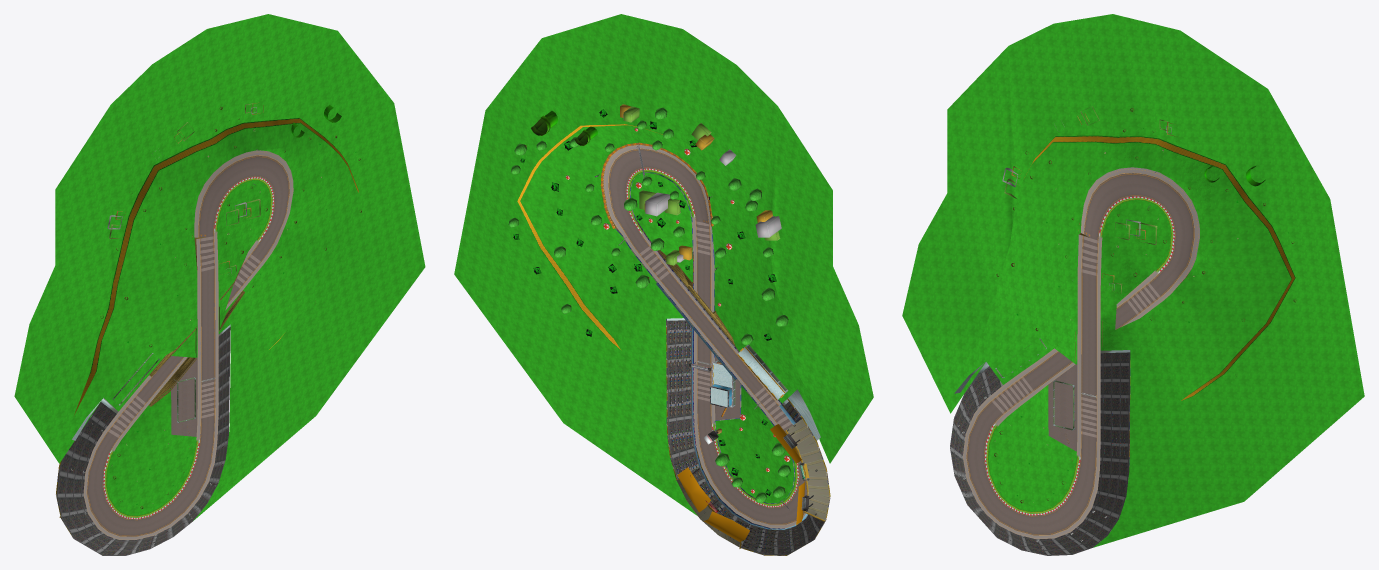
The picture shows the model from 3 angles, left to right: view 1: azimuth 30°, elevation 25°; view 2: azimuth 150°, elevation 25°; view 3: azimuth 330°, elevation 25°; orthographic projection. The views are drawn at different scales.
Parts seen in each view (by area): view 1: s_grass.001, s_road.001, s_lambert15.001, s_roadEdge.001, s_wallGroup.001, s_roadBW.001, s_grassRoad.001, wallBrick.001, lambert13.001; view 2: s_grass.001, s_road.001, s_lambert15.001, lambert13.001, s_roadEdge.001, leafs_cn_af.001, mat9_cn.001, s_roadBW.001, shine_A.001, s_wallGroup.001, wall.021, bush_af_cn.001 (+8 smaller); view 3: s_grass.001, s_road.001, s_lambert15.001, s_roadEdge.001, s_wallGroup.001, s_roadBW.001, s_grassRoad.001, lambert13.001.
Boxes of the visible parts, <box> form: s_grass.001: <box>14,14,425,520</box>; s_road.001: <box>87,155,289,536</box>; s_lambert15.001: <box>56,327,230,555</box>; s_roadEdge.001: <box>83,150,293,539</box>; s_wallGroup.001: <box>74,118,358,414</box>; s_roadBW.001: <box>108,236,260,437</box>; s_grassRoad.001: <box>103,177,273,519</box>; wallBrick.001: <box>149,237,245,448</box>; lambert13.001: <box>56,102,263,538</box>; s_grass.001: <box>454,14,873,515</box>; s_road.001: <box>608,148,807,524</box>; s_lambert15.001: <box>667,320,824,555</box>; lambert13.001: <box>620,104,830,555</box>; s_roadEdge.001: <box>603,145,805,528</box>; leafs_cn_af.001: <box>508,107,790,502</box>; mat9_cn.001: <box>670,321,816,552</box>; s_roadBW.001: <box>639,221,791,428</box>; shine_A.001: <box>677,424,805,541</box>; s_wallGroup.001: <box>517,124,662,349</box>; wall.021: <box>667,318,820,440</box>; bush_af_cn.001: <box>513,109,787,495</box>; s_grass.001: <box>902,14,1364,547</box>; s_road.001: <box>966,173,1194,535</box>; s_lambert15.001: <box>950,352,1130,555</box>; s_roadEdge.001: <box>962,167,1199,539</box>; s_wallGroup.001: <box>1024,135,1295,400</box>; s_roadBW.001: <box>991,236,1160,437</box>; s_grassRoad.001: <box>985,196,1174,515</box>; lambert13.001: <box>1002,106,1175,466</box>.
Bounding box in the file's own units: 85940 × 100133 × 10140.
37 materials, 37 textured.
